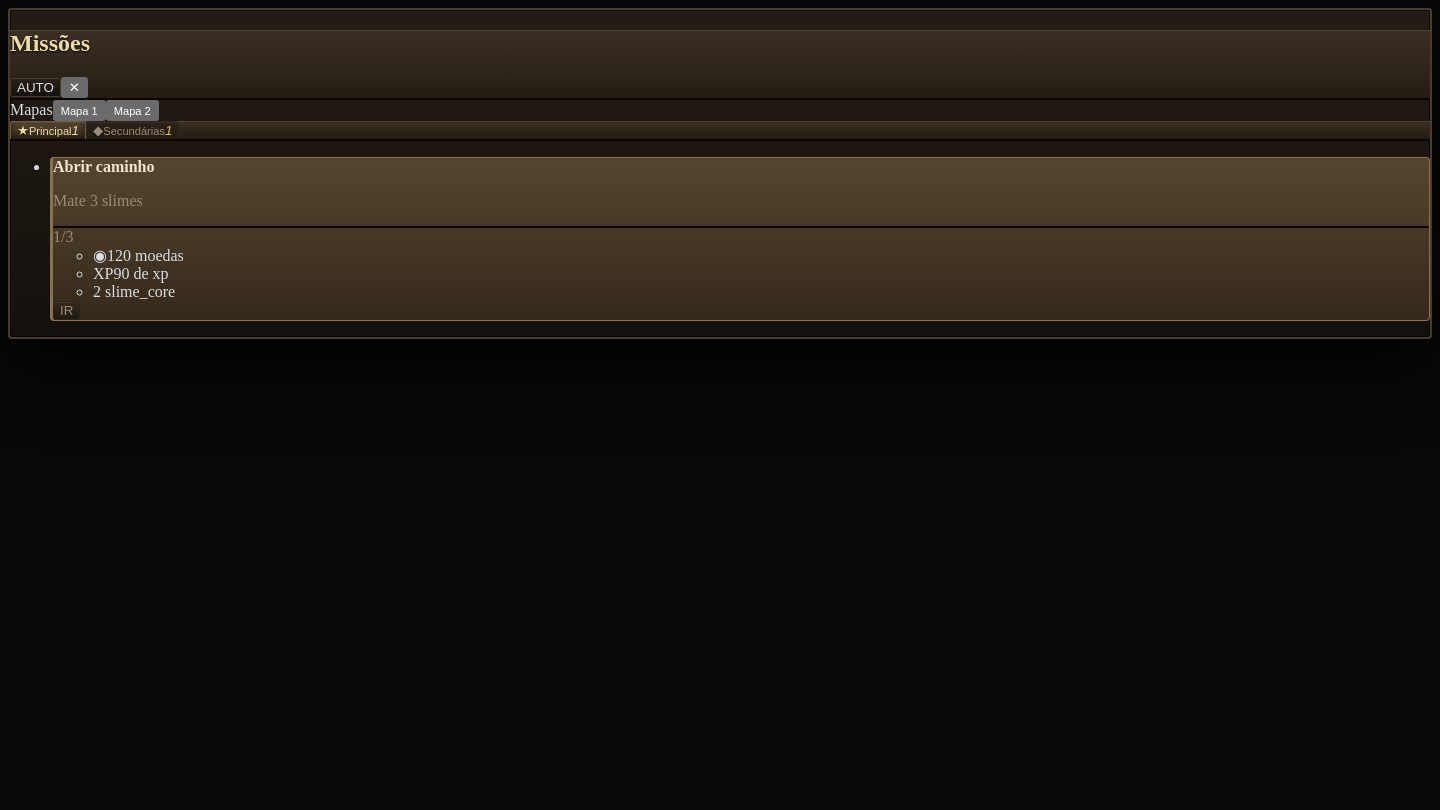
QuestPanel abas de missao › a side ativa aparece na aba de secundarias
Click the tab "◆Secundárias1": click(133, 130) 86,121 -> 179,139
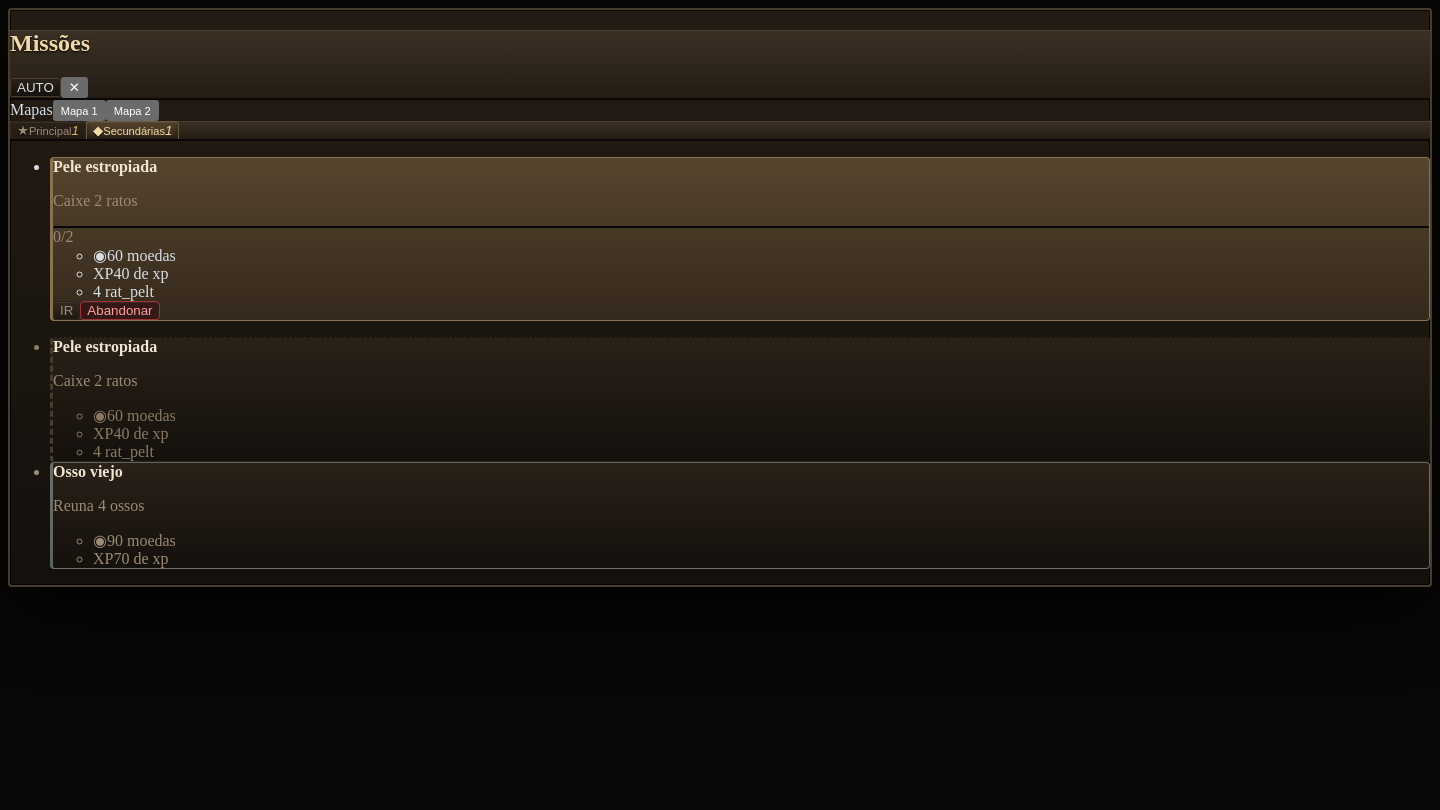
Check: the text "Abandonar" is shown, box 80,301 -> 160,320
Check: the text "Pele estropiada" is shown, box 53,158 -> 157,175
